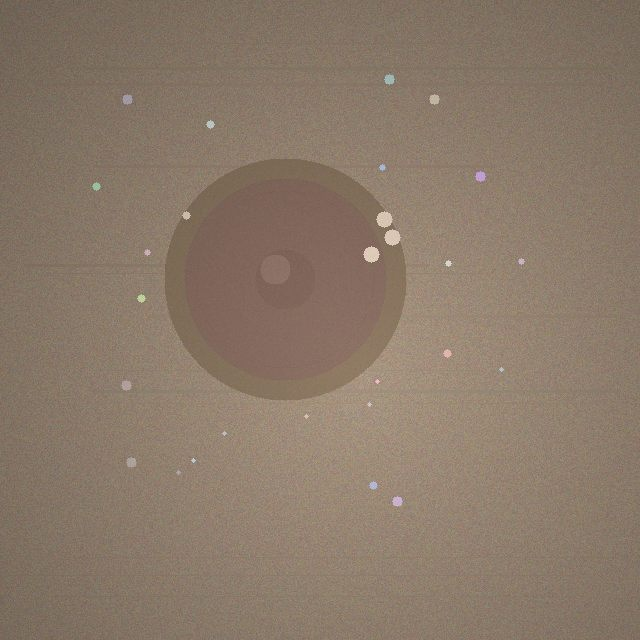overburn: (164, 158, 406, 400)
